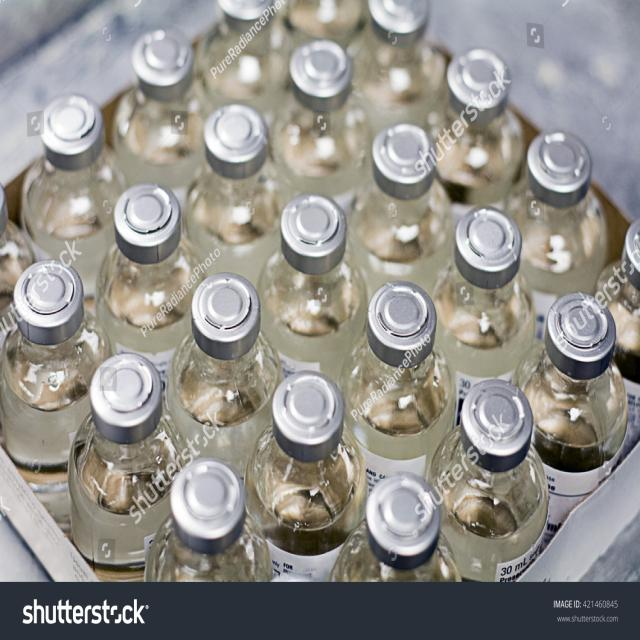vial: (548, 287, 624, 370), (458, 380, 538, 455), (368, 474, 441, 552), (92, 359, 158, 424), (372, 286, 434, 354), (192, 280, 256, 338), (447, 47, 504, 112), (280, 379, 336, 442), (457, 216, 519, 272), (380, 120, 431, 186), (174, 468, 234, 523), (16, 271, 79, 321), (293, 38, 343, 100), (210, 108, 262, 165), (284, 200, 336, 254), (122, 190, 173, 244), (41, 103, 97, 152), (367, 0, 433, 41), (137, 34, 190, 83), (532, 138, 582, 185), (219, 0, 273, 24), (621, 208, 640, 269), (0, 176, 10, 235)
